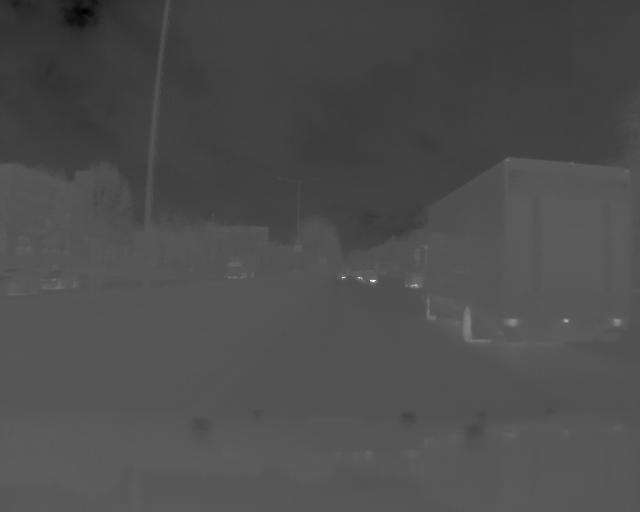car: (412, 153, 633, 348), (222, 249, 269, 278)
